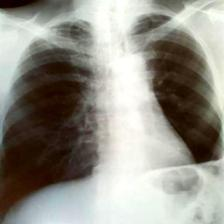tuberculosis: (0, 8, 224, 224)
